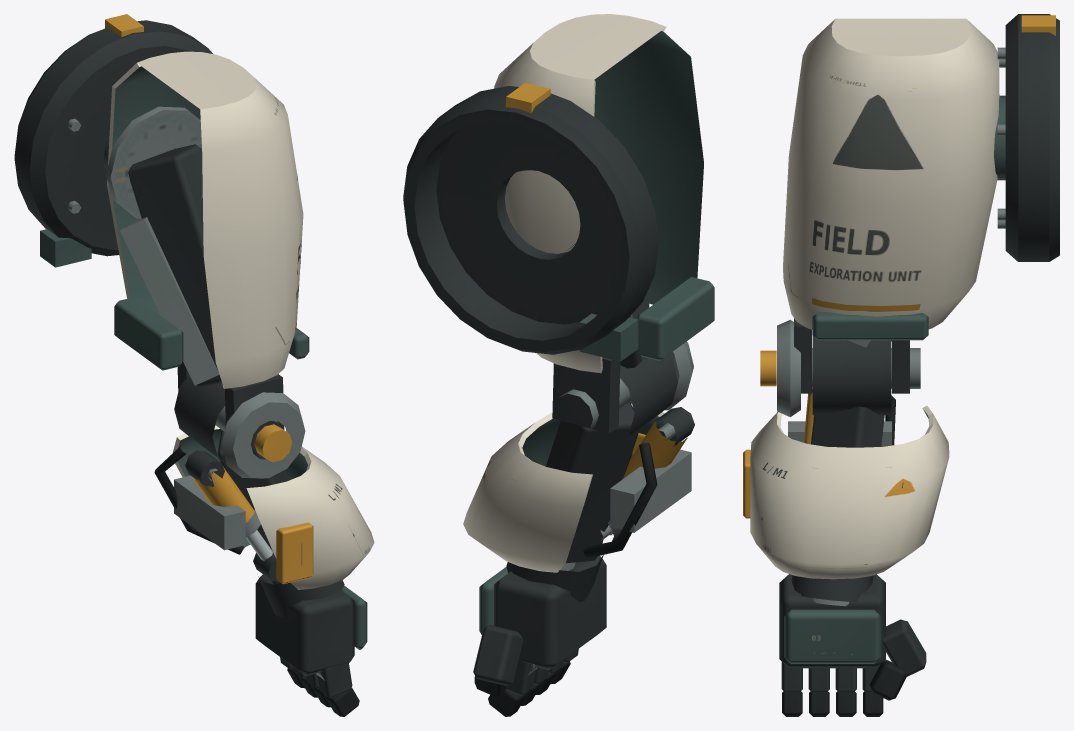
The model's file is HOPPER_03_Arm_L_M1.glb.
The picture shows the model from 3 angles, left to right: view 1: azimuth 30°, elevation 25°; view 2: azimuth 150°, elevation 25°; view 3: azimuth 270°, elevation 25°; orthographic projection. The views are drawn at different scales.
Visible parts, largest first — view 1: Arm_L_04_Shoulder_Armor, Arm_L_03_Upper_Frame, Arm_L_01_Interface_Cup, Arm_L_07_Forearm_Armor, Arm_L_10_Hand_Frame, Arm_L_05_Elbow_Pivot, Arm_L_06_Forearm_Frame, Arm_L_08_Wrist_Pivot, Arm_L_11_Hand_Armor; view 2: Arm_L_01_Interface_Cup, Arm_L_04_Shoulder_Armor, Arm_L_06_Forearm_Frame, Arm_L_07_Forearm_Armor, Arm_L_10_Hand_Frame, Arm_L_03_Upper_Frame, Arm_L_05_Elbow_Pivot, Arm_L_08_Wrist_Pivot, Arm_L_11_Hand_Armor; view 3: Arm_L_04_Shoulder_Armor, Arm_L_07_Forearm_Armor, Arm_L_01_Interface_Cup, Arm_L_10_Hand_Frame, Arm_L_05_Elbow_Pivot, Arm_L_11_Hand_Armor, Arm_L_06_Forearm_Frame, Arm_L_03_Upper_Frame, Arm_L_08_Wrist_Pivot.
Boxes of the visible parts, x1,y1,x2,y2 form: Arm_L_04_Shoulder_Armor: (107,51,309,388); Arm_L_03_Upper_Frame: (106,106,284,449); Arm_L_01_Interface_Cup: (14,14,212,267); Arm_L_07_Forearm_Armor: (172,425,374,589); Arm_L_10_Hand_Frame: (255,574,359,716); Arm_L_05_Elbow_Pivot: (174,375,305,478); Arm_L_06_Forearm_Frame: (154,429,288,584); Arm_L_08_Wrist_Pivot: (258,576,344,616); Arm_L_11_Hand_Armor: (342,585,367,649); Arm_L_01_Interface_Cup: (403,83,658,361); Arm_L_04_Shoulder_Armor: (494,14,703,373); Arm_L_06_Forearm_Frame: (546,401,694,563); Arm_L_07_Forearm_Armor: (463,403,677,572); Arm_L_10_Hand_Frame: (473,555,606,716); Arm_L_03_Upper_Frame: (552,277,714,433); Arm_L_05_Elbow_Pivot: (559,341,693,446); Arm_L_08_Wrist_Pivot: (506,555,603,602); Arm_L_11_Hand_Armor: (479,566,507,634); Arm_L_04_Shoulder_Armor: (783,18,999,340); Arm_L_07_Forearm_Armor: (743,405,949,579); Arm_L_01_Interface_Cup: (994,14,1059,261); Arm_L_10_Hand_Frame: (779,574,926,716); Arm_L_05_Elbow_Pivot: (760,319,920,417); Arm_L_11_Hand_Armor: (784,609,881,663); Arm_L_06_Forearm_Frame: (788,389,895,447); Arm_L_03_Upper_Frame: (794,318,909,393); Arm_L_08_Wrist_Pivot: (791,575,873,606).
Bounding box in the file's own units: 0.435 × 1.08 × 0.4785.
3 materials, 3 textured.
